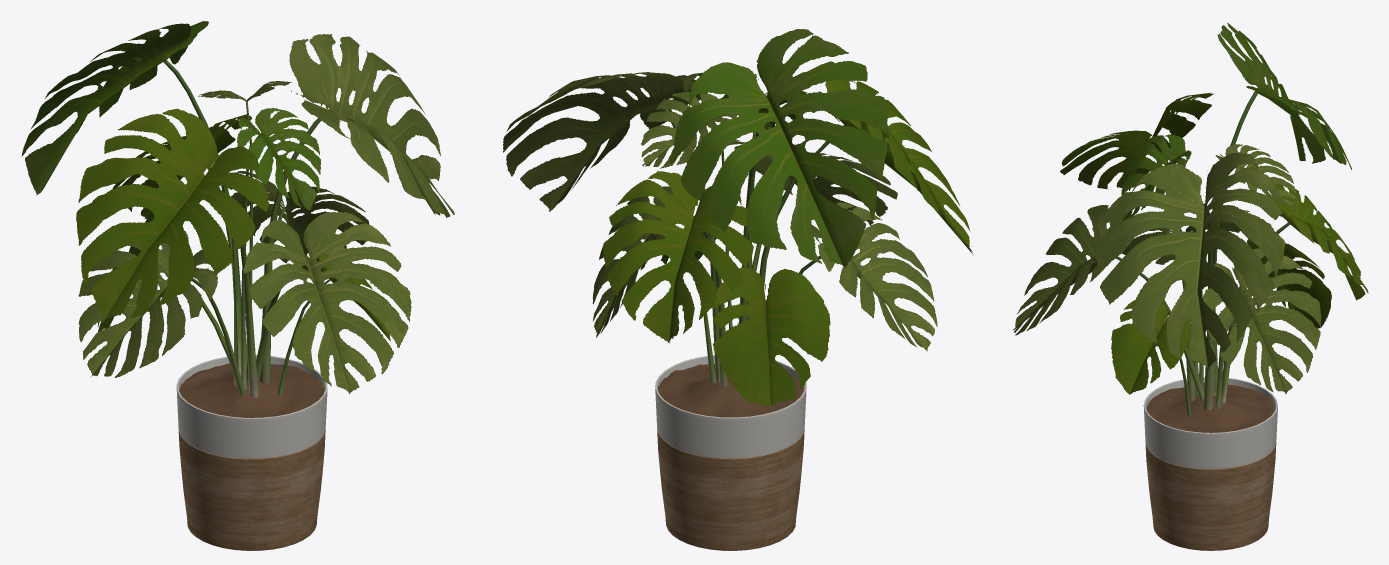
3 renders of one model, left to right at view 1: azimuth 30°, elevation 25°; view 2: azimuth 150°, elevation 25°; view 3: azimuth 270°, elevation 25°, orthographic. The views are drawn at different scales.
Parts seen in each view (by area): view 1: SWISSCHEESE.001; view 2: SWISSCHEESE.001; view 3: SWISSCHEESE.001.
Boxes of the visible parts, x1,y1,x2,y2 form: SWISSCHEESE.001: (22,21,454,550); SWISSCHEESE.001: (503,29,973,550); SWISSCHEESE.001: (1013,22,1368,550).
Bounding box in the file's own units: 0.5606 × 0.6743 × 0.4833.
1 material, 1 textured.
